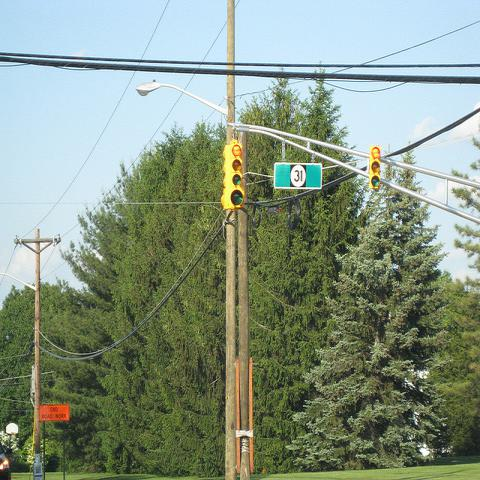car: (0, 444, 12, 479)
